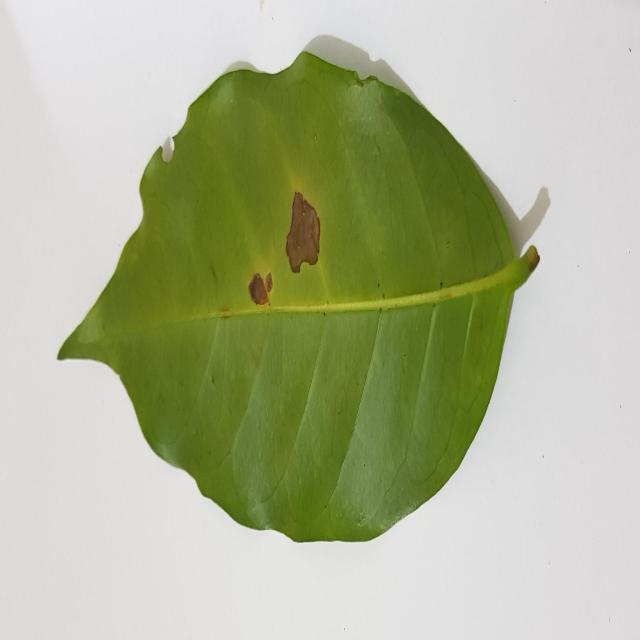miner: (286, 191, 321, 273), (248, 271, 274, 308)
